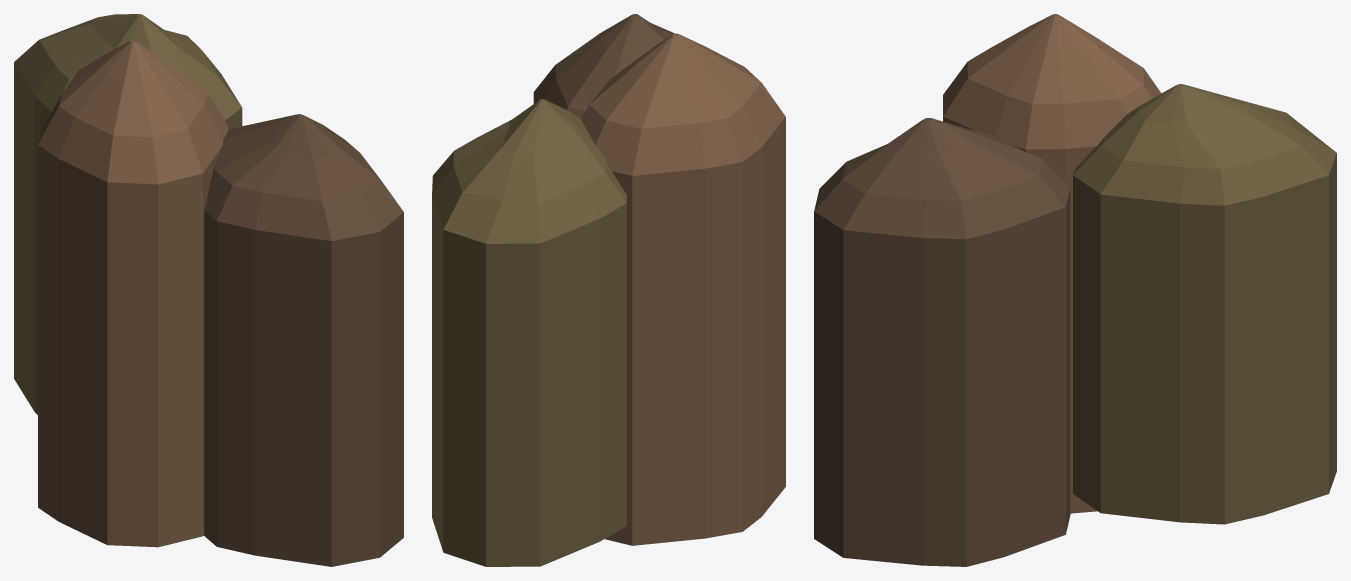
The model's file is RockSmash.fbx.
The picture shows the model from 3 angles, left to right: view 1: azimuth 30°, elevation 25°; view 2: azimuth 150°, elevation 25°; view 3: azimuth 270°, elevation 25°; orthographic projection.
Parts seen in each view (by area): view 1: Cylinder, Cylinder.002, Cylinder.001; view 2: Cylinder.001, Cylinder.002, Cylinder; view 3: Cylinder.001, Cylinder, Cylinder.002.
Part boxes in pixels (<box>): Cylinder: <box>203,114,403,566</box>; Cylinder.002: <box>38,40,228,547</box>; Cylinder.001: <box>14,14,242,414</box>; Cylinder.001: <box>432,99,626,566</box>; Cylinder.002: <box>581,33,785,545</box>; Cylinder: <box>533,14,674,118</box>; Cylinder.001: <box>1073,84,1336,524</box>; Cylinder: <box>814,118,1070,566</box>; Cylinder.002: <box>943,14,1161,513</box>.
Bounding box in the file's own units: 305 × 506 × 519.
